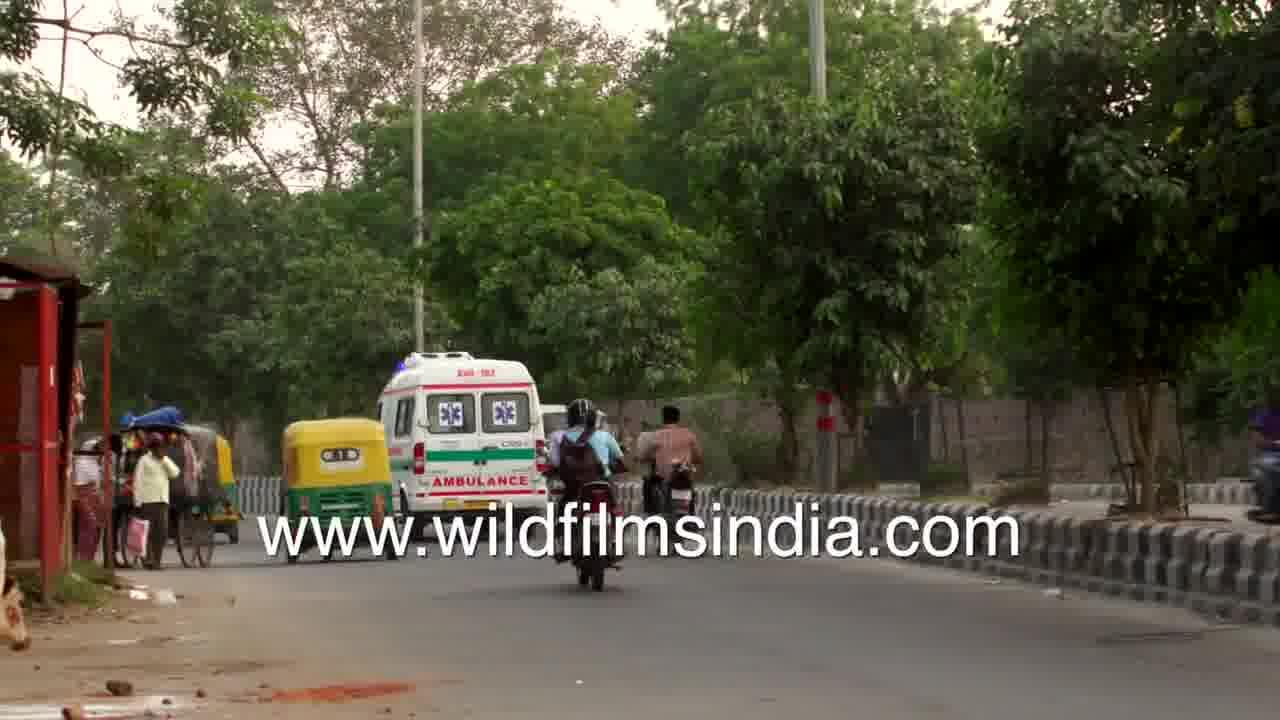AMBULANCE: (379, 344, 546, 510)
